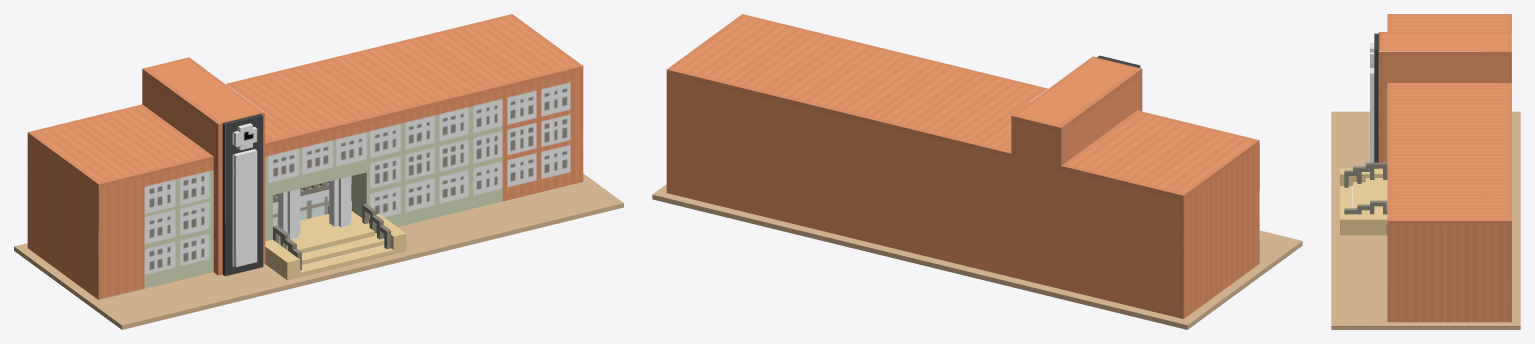
Rendered from kagoshimadaigaku.glb.
3 views of the same model, side by side, from view 1: azimuth 30°, elevation 25°; view 2: azimuth 150°, elevation 25°; view 3: azimuth 270°, elevation 25° (orthographic). The views are drawn at different scales.
Visible parts, largest first — view 1: kagoshimadaigaku; view 2: kagoshimadaigaku; view 3: kagoshimadaigaku.
Part boxes in pixels (x1,y1,x2,y2): kagoshimadaigaku: (14,14,623,329); kagoshimadaigaku: (652,14,1302,329); kagoshimadaigaku: (1331,14,1520,329).
Size of the model in its own units: 2.36 by 0.7 by 0.88.
1 material, 1 textured.
